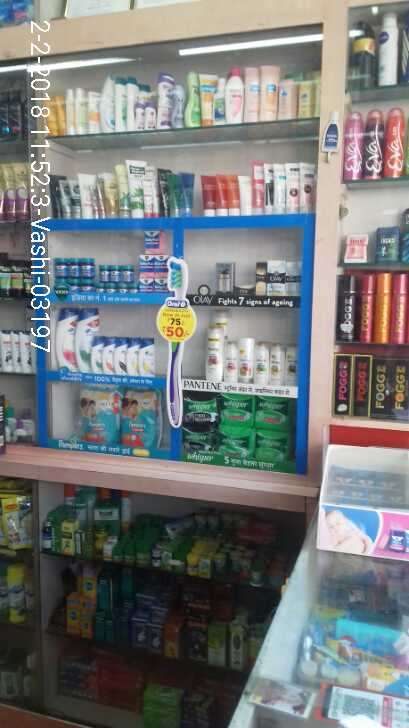beauty: (204, 327, 223, 380), (237, 336, 254, 382), (137, 338, 155, 377), (269, 342, 285, 385), (268, 260, 286, 297), (254, 341, 269, 385), (222, 341, 238, 381), (284, 343, 297, 385), (286, 263, 302, 297), (255, 262, 267, 295)
pharmacy: (119, 388, 164, 449), (80, 386, 120, 444), (256, 395, 295, 432), (218, 393, 258, 428), (182, 391, 218, 425), (217, 426, 255, 457), (255, 429, 292, 459), (181, 426, 219, 450), (52, 256, 68, 278), (81, 257, 96, 278), (108, 263, 122, 282), (67, 258, 80, 277), (121, 265, 135, 282), (97, 264, 109, 281)
